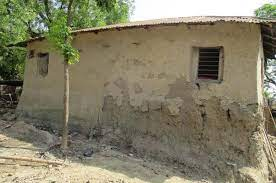Mud House: (15, 21, 268, 178)
